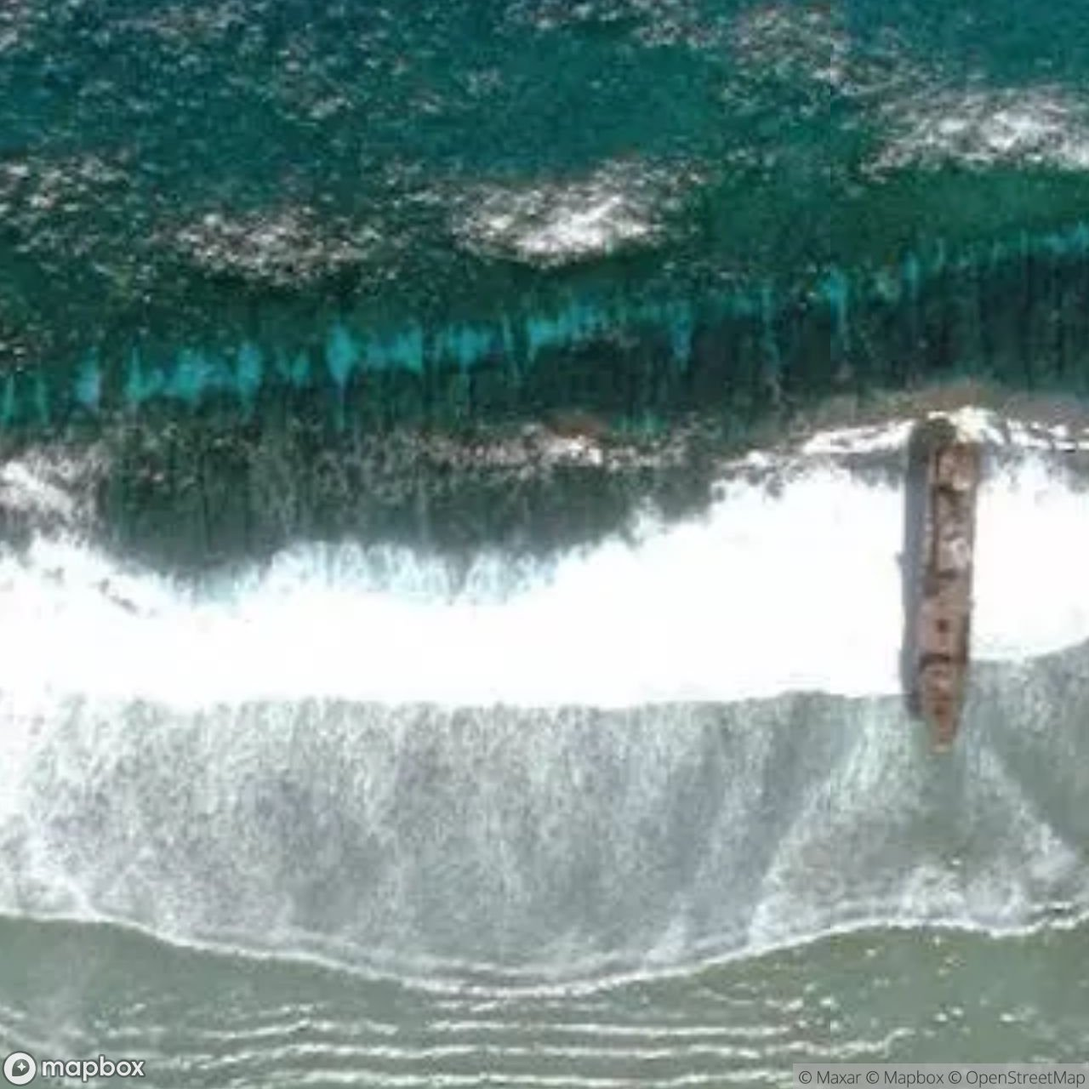Wreck: (887, 422, 1012, 760)
